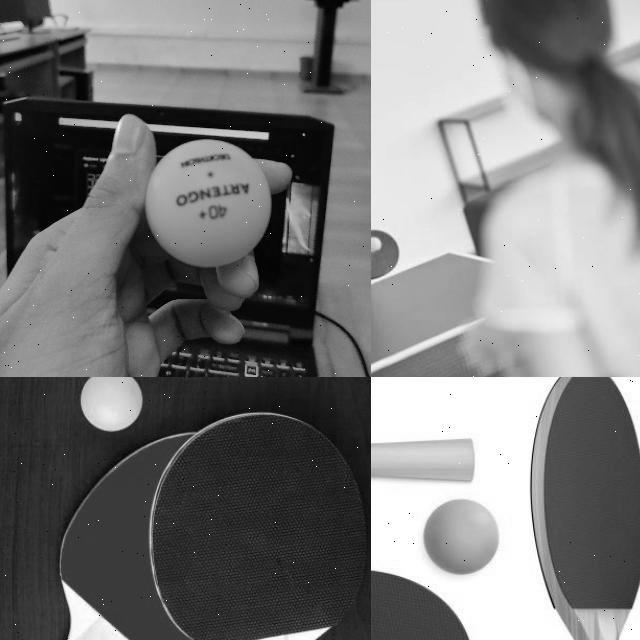ping-pong-ball: (146, 140, 270, 268), (424, 500, 498, 572), (79, 377, 140, 428), (371, 236, 380, 252)
